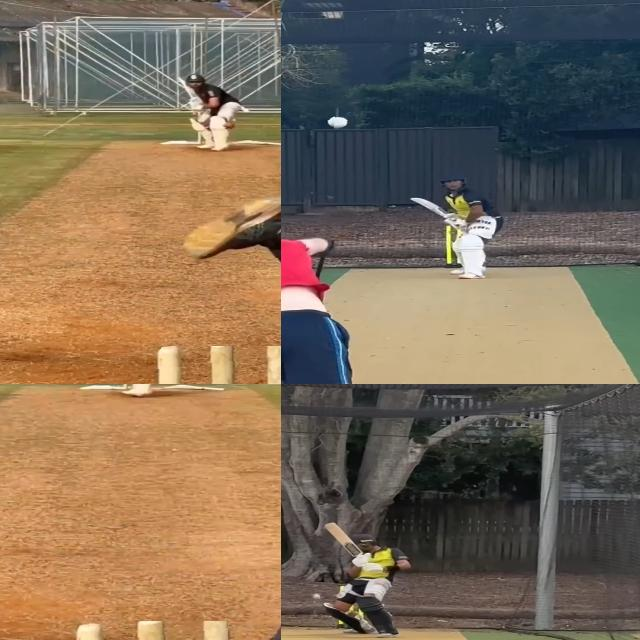Cricket ball: (326, 114, 352, 129), (222, 122, 236, 129), (310, 593, 324, 599)
Stumps: (155, 346, 281, 384)
